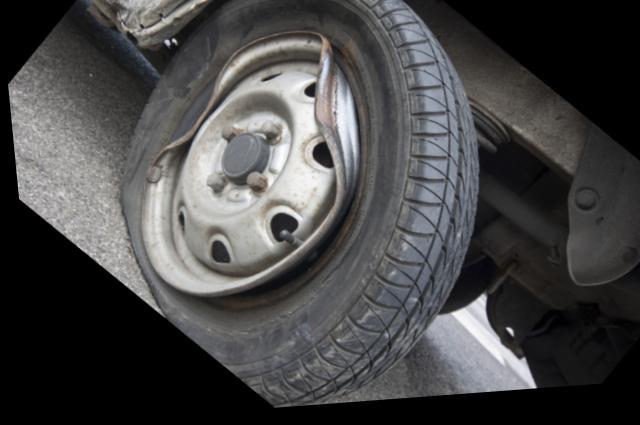tire flat: (113, 0, 475, 410)
